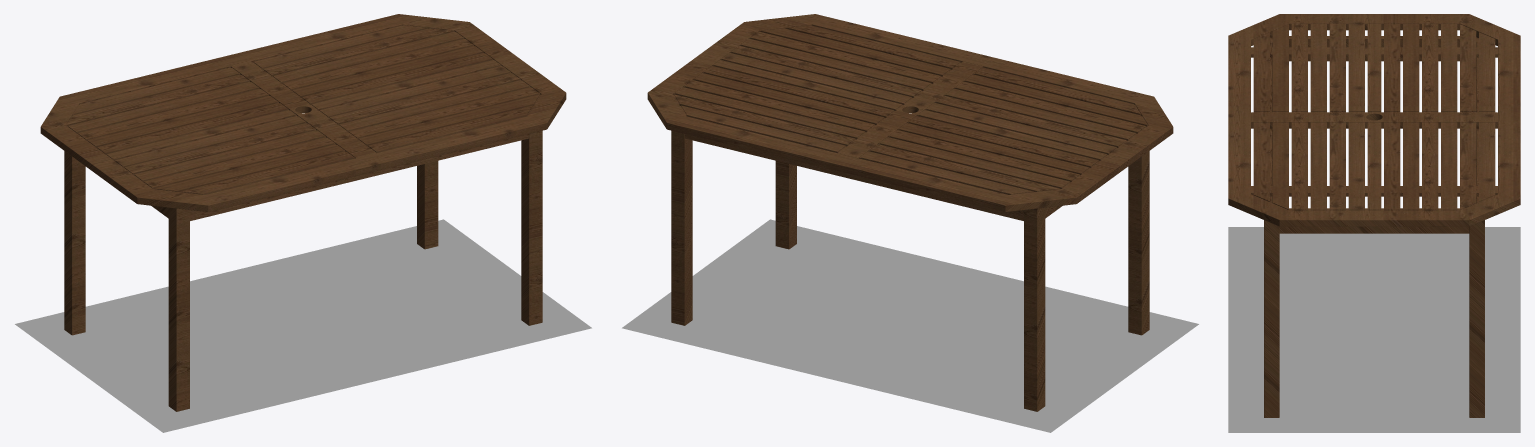
Rendered from Wooden_Table3.obj.
3 views of the same model, side by side, from view 1: azimuth 30°, elevation 25°; view 2: azimuth 150°, elevation 25°; view 3: azimuth 270°, elevation 25° (orthographic).
Visible parts, largest first — view 1: default_1_2, ground_1; view 2: default_1_2, ground_1; view 3: default_1_2, ground_1.
Part boxes in pixels (x1,y1,x2,y2): default_1_2: (40,14,566,411); ground_1: (15,219,591,432); default_1_2: (647,14,1173,411); ground_1: (622,219,1198,432); default_1_2: (1228,14,1520,417); ground_1: (1228,227,1520,432).
Bounding box in the file's own units: 150 × 72.3 × 90.
